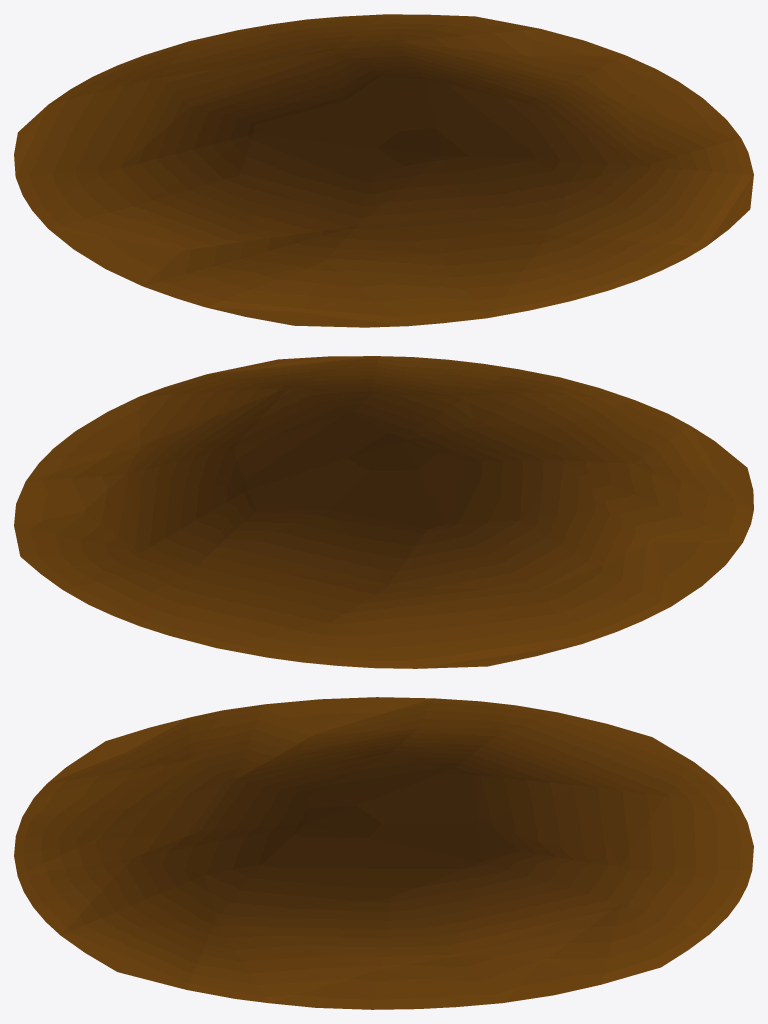
File: Prefab_Generic_Base_Dirt.glb
3 renders of one model, top to bottom at view 1: azimuth 30°, elevation 25°; view 2: azimuth 150°, elevation 25°; view 3: azimuth 270°, elevation 25°, orthographic. The views are drawn at different scales.
Visible parts, largest first — view 1: Plane.012; view 2: Plane.012; view 3: Plane.012.
Boxes of the visible parts, left/top/right/bottom form: Plane.012: left=14, top=14, right=753, bottom=327; Plane.012: left=14, top=356, right=753, bottom=668; Plane.012: left=14, top=697, right=753, bottom=1009.
Bounding box in the file's own units: 8.89 × 0.5251 × 8.89.
1 material, 1 textured.
